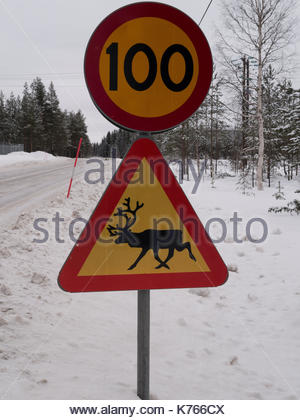Speed_limit_100km: (83, 2, 213, 135)
